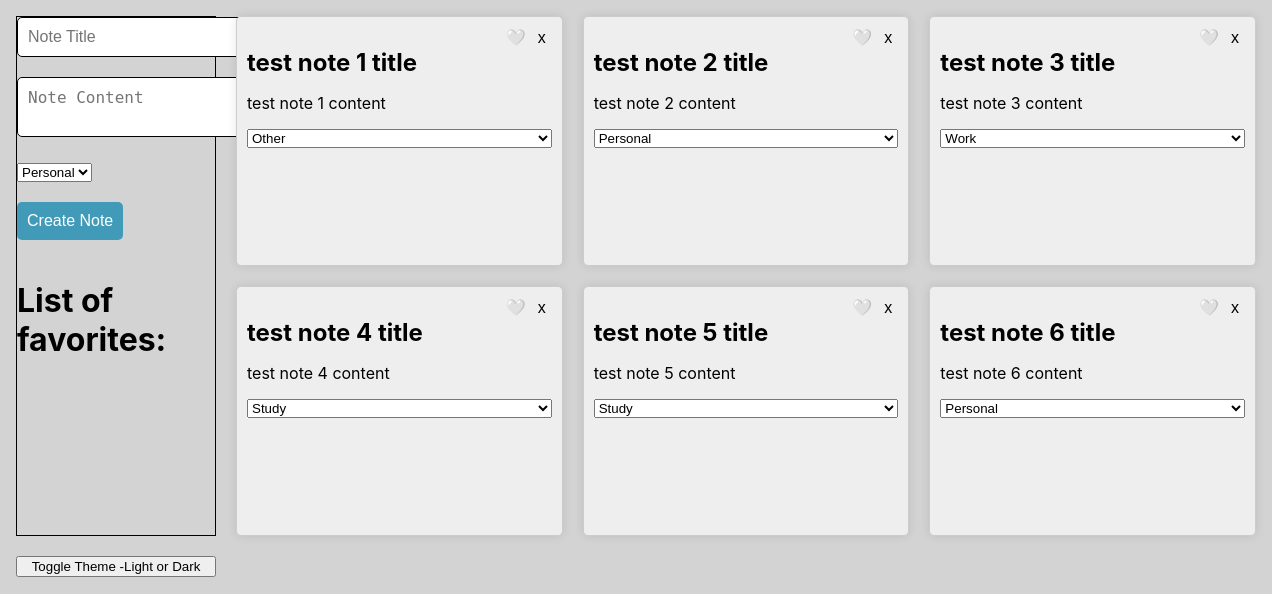
Test: Exercise 2.6.1 - Read, update, delete StickyNote › remove stickyNotes
The image size is (1272, 594).
Click the 1st button with class "removeButton". click: (542, 38)
box: x1=532 y1=27 x2=552 y2=48
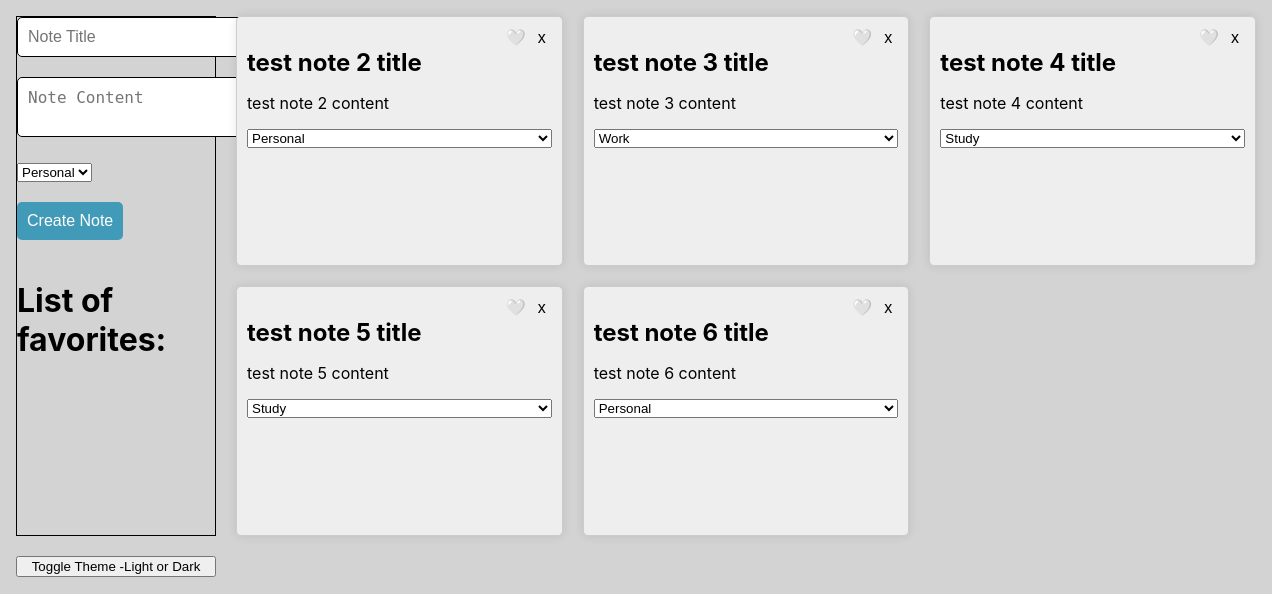
Check: the heading "test note 1 title" is gone
